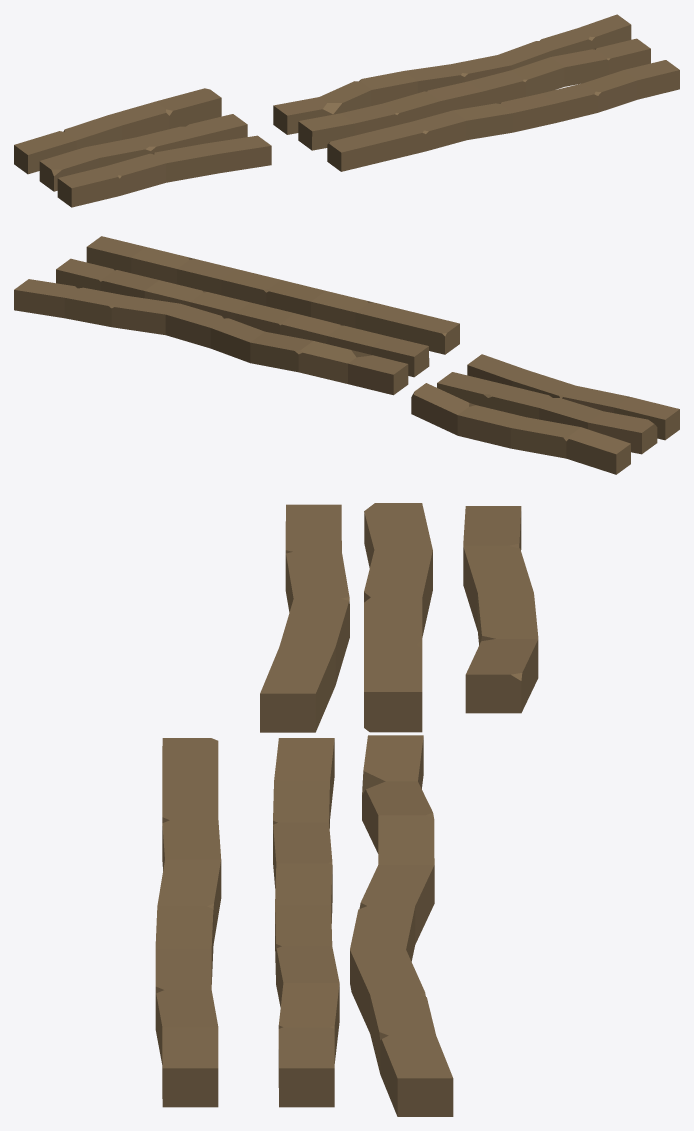
The model's file is Wooden_Beams.fbx.
3 views of the same model, one above another, from view 1: azimuth 30°, elevation 25°; view 2: azimuth 150°, elevation 25°; view 3: azimuth 270°, elevation 25° (orthographic). The views are drawn at different scales.
Visible parts, largest first — view 1: Wooden_planks_Angeld_2.007, Wooden_planks_Angeld_2.006, Wooden_planks_Angeld_2.005, Wooden_planks_Angeld_2.002, Wooden_planks_Angeld_2.004, Wooden_planks_Angeld_2.001; view 2: Wooden_planks_Angeld_2.005, Wooden_planks_Angeld_2.007, Wooden_planks_Angeld_2.006, Wooden_planks_Angeld_2.004, Wooden_planks_Angeld_2.001, Wooden_planks_Angeld_2.002; view 3: Wooden_planks_Angeld_2.005, Wooden_planks_Angeld_2.006, Wooden_planks_Angeld_2.007, Wooden_planks_Angeld_2.002, Wooden_planks_Angeld_2.001, Wooden_planks_Angeld_2.004.
Part boxes in pixels (x1=…): Wooden_planks_Angeld_2.007: x1=327, y1=60, x2=679, y2=171; Wooden_planks_Angeld_2.006: x1=298, y1=38, x2=650, y2=150; Wooden_planks_Angeld_2.005: x1=273, y1=14, x2=631, y2=134; Wooden_planks_Angeld_2.002: x1=57, y1=135, x2=271, y2=207; Wooden_planks_Angeld_2.004: x1=14, y1=88, x2=221, y2=174; Wooden_planks_Angeld_2.001: x1=39, y1=114, x2=247, y2=191; Wooden_planks_Angeld_2.005: x1=14, y1=279, x2=408, y2=395; Wooden_planks_Angeld_2.007: x1=86, y1=236, x2=459, y2=354; Wooden_planks_Angeld_2.006: x1=56, y1=258, x2=429, y2=377; Wooden_planks_Angeld_2.004: x1=411, y1=383, x2=630, y2=474; Wooden_planks_Angeld_2.001: x1=437, y1=372, x2=657, y2=454; Wooden_planks_Angeld_2.002: x1=467, y1=354, x2=679, y2=440; Wooden_planks_Angeld_2.005: x1=350, y1=735, x2=453, y2=1116; Wooden_planks_Angeld_2.006: x1=273, y1=738, x2=339, y2=1107; Wooden_planks_Angeld_2.007: x1=155, y1=738, x2=221, y2=1107; Wooden_planks_Angeld_2.002: x1=260, y1=504, x2=349, y2=732; Wooden_planks_Angeld_2.001: x1=364, y1=503, x2=432, y2=732; Wooden_planks_Angeld_2.004: x1=463, y1=506, x2=538, y2=713.
Size of the model in its own units: 1171 by 59.69 by 331.
